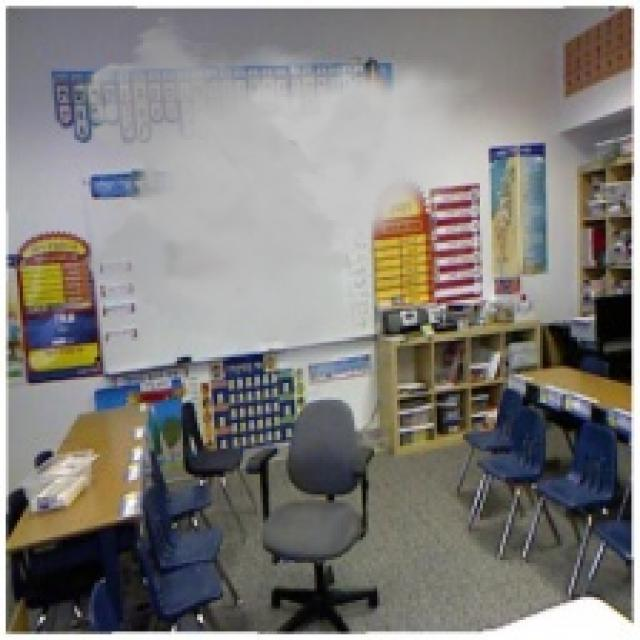smoke: (77, 14, 483, 400)
